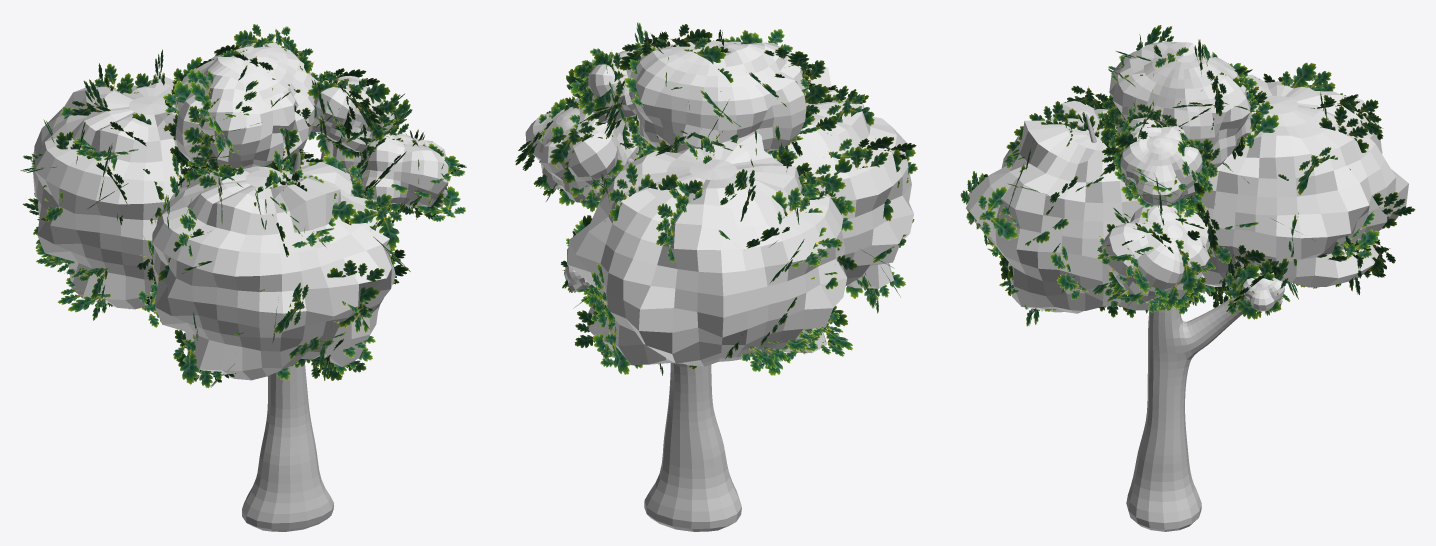
The model's file is ldub_obyedinenny.fbx.
3 views of the same model, side by side, from view 1: azimuth 30°, elevation 25°; view 2: azimuth 150°, elevation 25°; view 3: azimuth 270°, elevation 25° (orthographic). The views are drawn at different scales.
Visible parts, largest first — view 1: Сфера, Сфера|Плоскость|Dupli|, Куб; view 2: Сфера, Сфера|Плоскость|Dupli|, Куб; view 3: Сфера, Сфера|Плоскость|Dupli|, Куб.
Boxes of the visible parts, x1=… form: Сфера: x1=32, y1=41, x2=448, y2=380; Сфера|Плоскость|Dupli|: x1=20, y1=24, x2=466, y2=388; Куб: x1=242, y1=137, x2=333, y2=531; Сфера: x1=525, y1=40, x2=913, y2=366; Сфера|Плоскость|Dupli|: x1=515, y1=22, x2=917, y2=375; Куб: x1=627, y1=145, x2=741, y2=531; Сфера: x1=966, y1=41, x2=1408, y2=313; Сфера|Плоскость|Dupli|: x1=960, y1=25, x2=1415, y2=326; Куб: x1=1086, y1=114, x2=1242, y2=531.
Size of the model in its own units: 2059 by 2607 by 2288.
